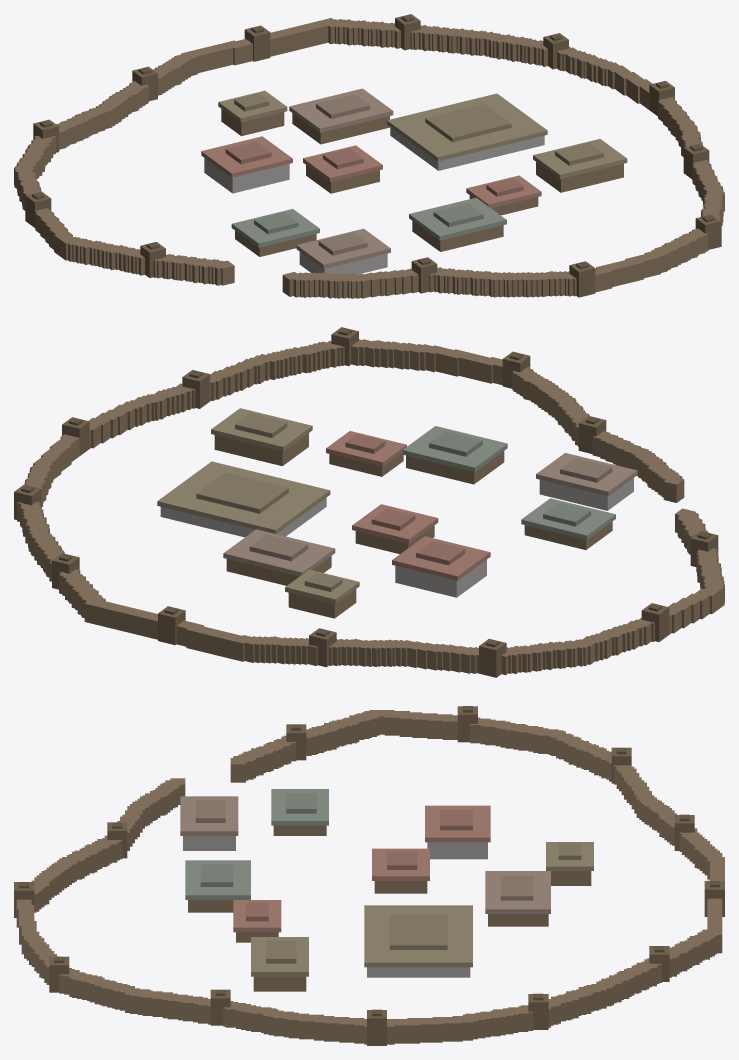
File: ciudad_guarida_bandidos_2633_3016_01.glb
The picture shows the model from 3 angles, top to bottom: view 1: azimuth 30°, elevation 25°; view 2: azimuth 150°, elevation 25°; view 3: azimuth 270°, elevation 25°; orthographic projection. The views are drawn at different scales.
Visible parts, largest first — view 1: ciudad_guarida_bandidos_2633_3016; view 2: ciudad_guarida_bandidos_2633_3016; view 3: ciudad_guarida_bandidos_2633_3016.
Boxes of the visible parts, <box> form: ciudad_guarida_bandidos_2633_3016: <box>14,14,724,298</box>; ciudad_guarida_bandidos_2633_3016: <box>14,327,724,677</box>; ciudad_guarida_bandidos_2633_3016: <box>14,706,724,1045</box>.
Bounding box in the file's own units: 74.5 × 3.25 × 70.5.
